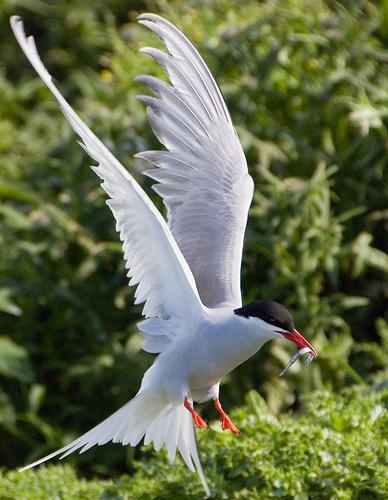bird: (4, 8, 319, 486)
